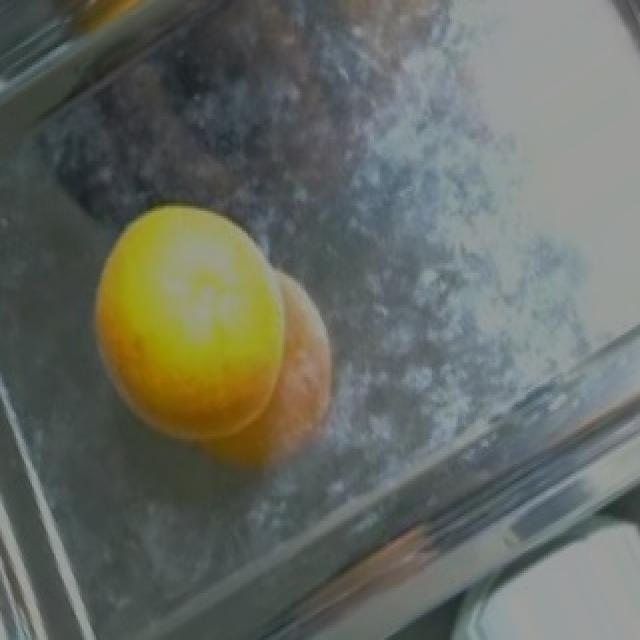Fruit: (76, 186, 362, 491), (0, 0, 222, 62)
